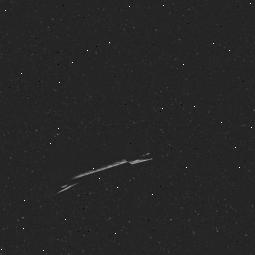xmm_newton: (19, 138, 171, 224)
